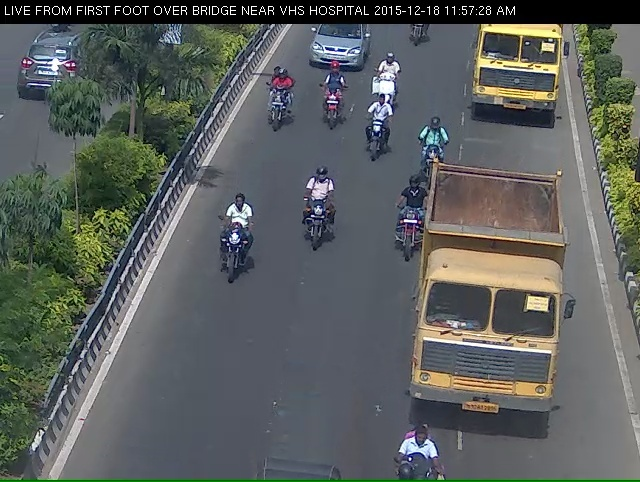Bus: (424, 172, 562, 448), (469, 21, 566, 133)
Car: (302, 21, 362, 72)
Person: (212, 214, 249, 309), (296, 182, 330, 269), (389, 192, 415, 275), (261, 74, 287, 143), (416, 132, 443, 198), (315, 77, 337, 138), (368, 64, 393, 115), (356, 111, 378, 164)
